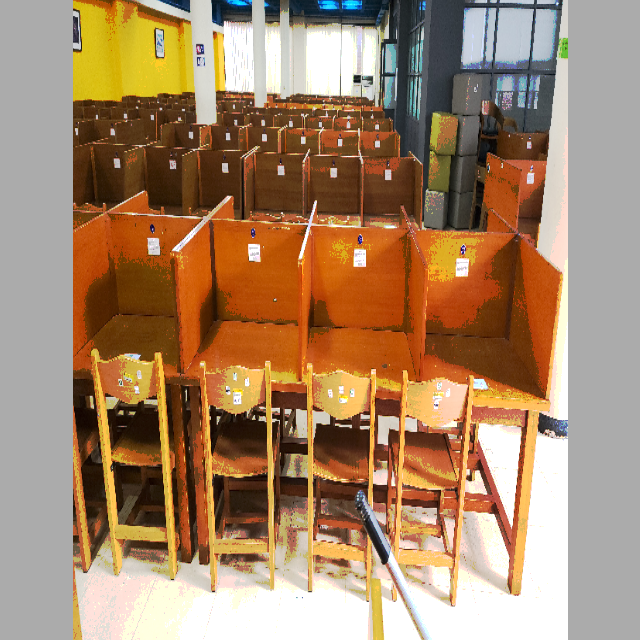empty: (174, 225, 301, 456), (430, 239, 557, 467), (304, 226, 418, 469)
